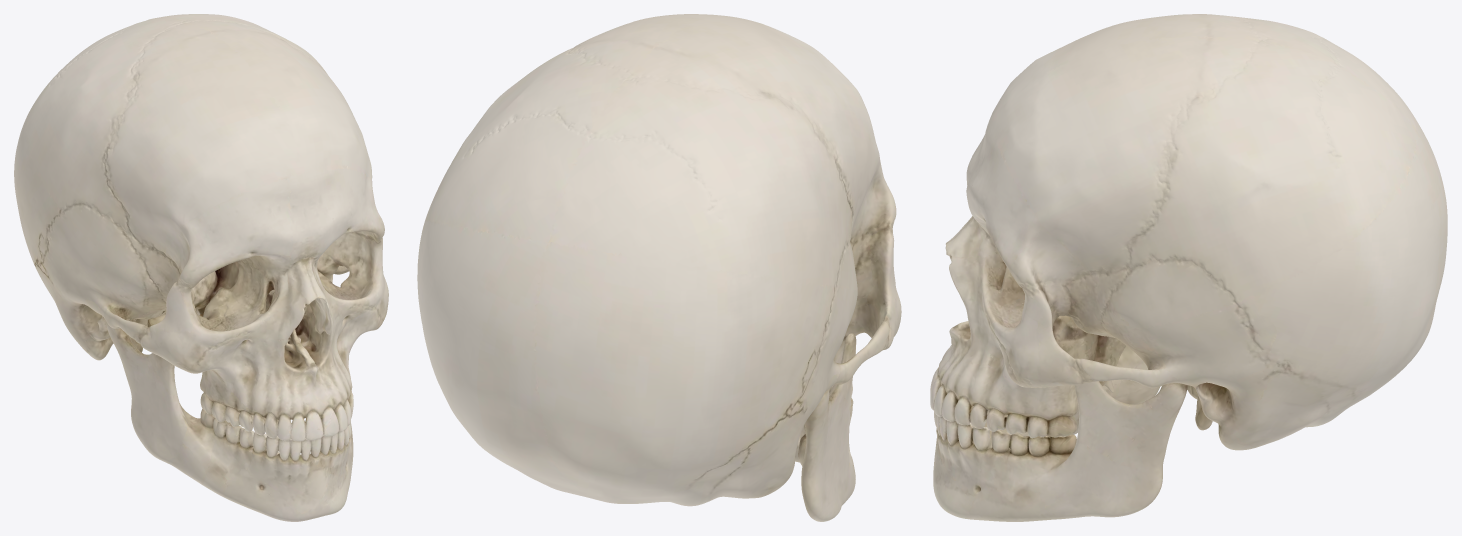
Rendered from skull.glb.
3 views of the same model, side by side, from view 1: azimuth 30°, elevation 25°; view 2: azimuth 150°, elevation 25°; view 3: azimuth 270°, elevation 25° (orthographic). The views are drawn at different scales.
Bounding box in the file's own units: 1.39 × 1.9 × 1.89.
Materials: 1 (1 with a texture image).
